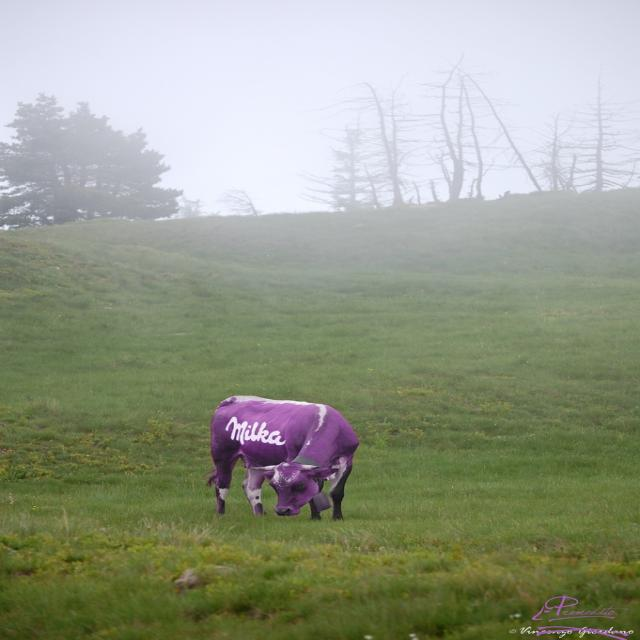milka: (223, 414, 295, 449)
